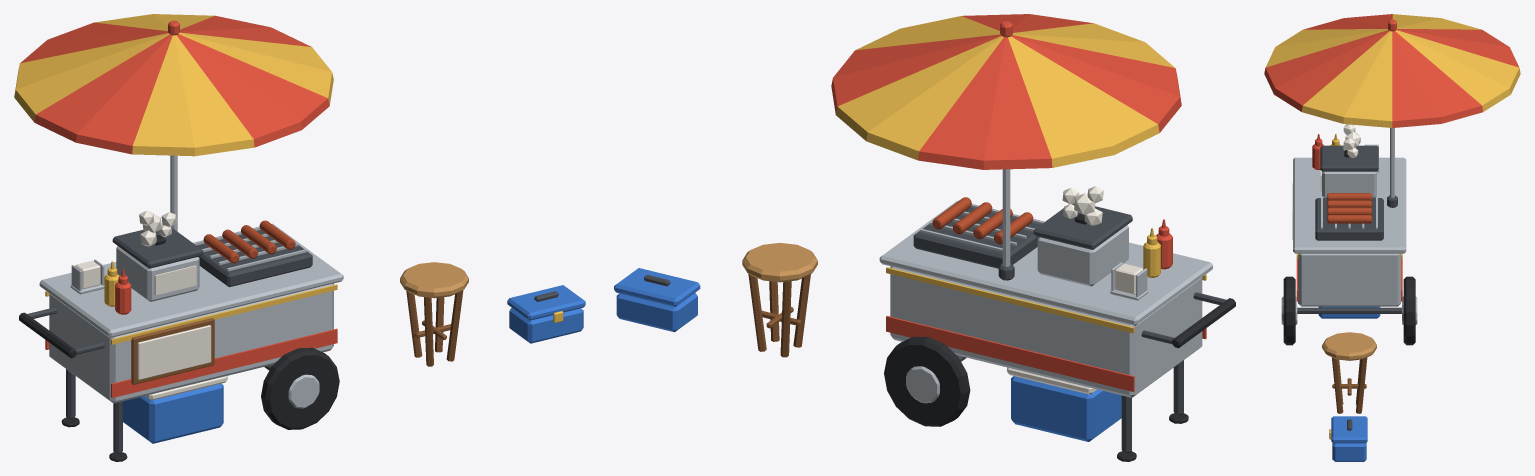
Rendered from street-hot-dog-cart.glb.
The picture shows the model from 3 angles, left to right: view 1: azimuth 30°, elevation 25°; view 2: azimuth 150°, elevation 25°; view 3: azimuth 270°, elevation 25°; orthographic projection. The views are drawn at different scales.
Parts seen in each view (by area): view 1: Umbrella_Canopy, Cart_Body, Cart_Counter, Wheel_L, Cooler, MenuBoard, Cart_Stripe_Front, Grill, Stool, Stool_Seat, BunWarmer_Lid, BunWarmer (+7 smaller); view 2: Umbrella_Canopy, Cart_Body, Cart_Counter, Wheel_R, Cooler, Cart_Stripe_Back, BunWarmer, Grill, Stool, Stool_Seat, BunWarmer_Lid, CashBox_Body (+8 smaller); view 3: Umbrella_Canopy, Cart_Body, Cart_Counter, Grill, BunWarmer_Lid, BunWarmer, Stool_Seat, CashBox_Lid, Wheel_L, Wheel_R, Stool, Cart_Axle (+7 smaller).
Part boxes in pixels (x1,y1,x2,y2): Umbrella_Canopy: [14, 14, 333, 156]; Cart_Body: [49, 283, 333, 403]; Cart_Counter: [39, 223, 343, 337]; Wheel_L: [261, 347, 339, 429]; Cooler: [123, 383, 223, 443]; MenuBoard: [137, 325, 211, 379]; Cart_Stripe_Front: [111, 328, 337, 397]; Grill: [193, 227, 312, 287]; Stool: [406, 290, 463, 366]; Stool_Seat: [400, 262, 468, 298]; BunWarmer_Lid: [112, 227, 203, 268]; BunWarmer: [116, 246, 199, 301]; Umbrella_Canopy: [831, 14, 1181, 169]; Cart_Body: [890, 266, 1202, 397]; Cart_Counter: [879, 200, 1212, 325]; Wheel_R: [884, 336, 970, 426]; Cooler: [1011, 376, 1121, 441]; Cart_Stripe_Back: [886, 316, 1134, 391]; BunWarmer: [1037, 225, 1128, 286]; Grill: [913, 204, 1043, 268]; Stool: [748, 274, 810, 357]; Stool_Seat: [742, 243, 817, 282]; BunWarmer_Lid: [1033, 203, 1132, 249]; CashBox_Body: [616, 293, 697, 332]; Umbrella_Canopy: [1264, 14, 1520, 127]; Cart_Body: [1298, 253, 1400, 306]; Cart_Counter: [1293, 157, 1406, 253]; Grill: [1315, 198, 1383, 240]; BunWarmer_Lid: [1320, 145, 1378, 171]; BunWarmer: [1322, 171, 1376, 197]; Stool_Seat: [1322, 332, 1376, 360]; CashBox_Lid: [1331, 416, 1367, 443]; Wheel_L: [1283, 276, 1295, 345]; Wheel_R: [1403, 276, 1415, 345]; Stool: [1332, 357, 1367, 413]; Cart_Axle: [1297, 307, 1401, 313].
Bounding box in the file's own units: 14.24 × 9.55 × 7.47.
